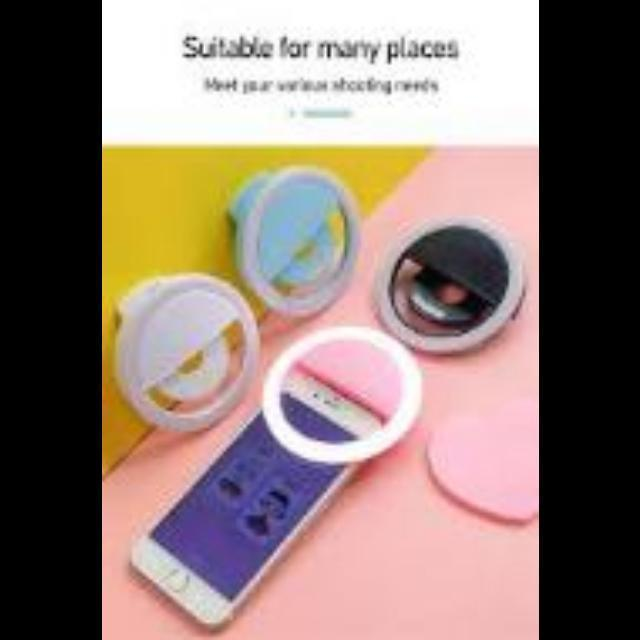phone: (140, 346, 388, 637)
